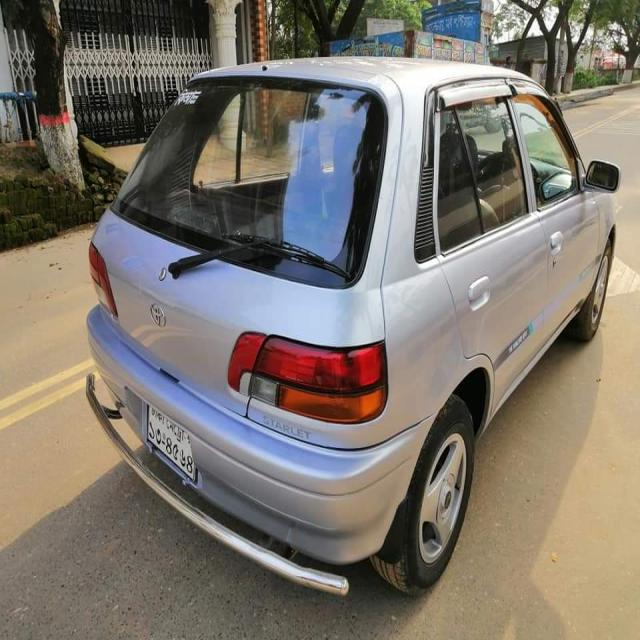silver: (83, 60, 621, 546)
